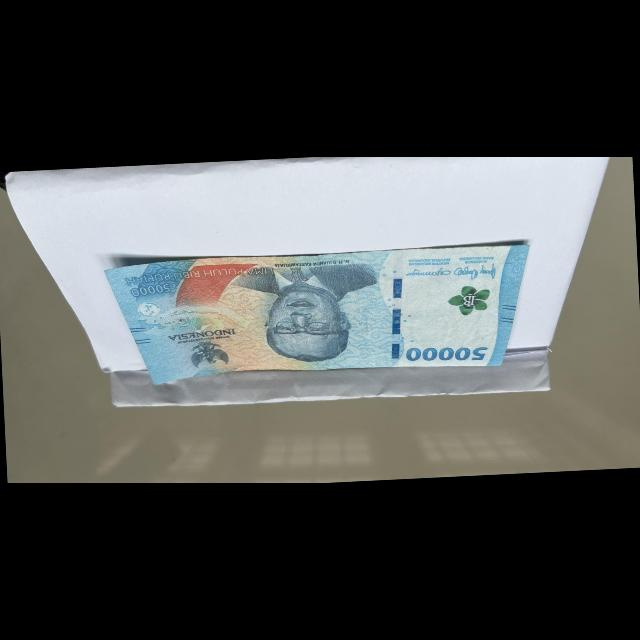Palsu-50k: (96, 237, 540, 391)
Tinta-Palsu-50k: (446, 284, 491, 318)
